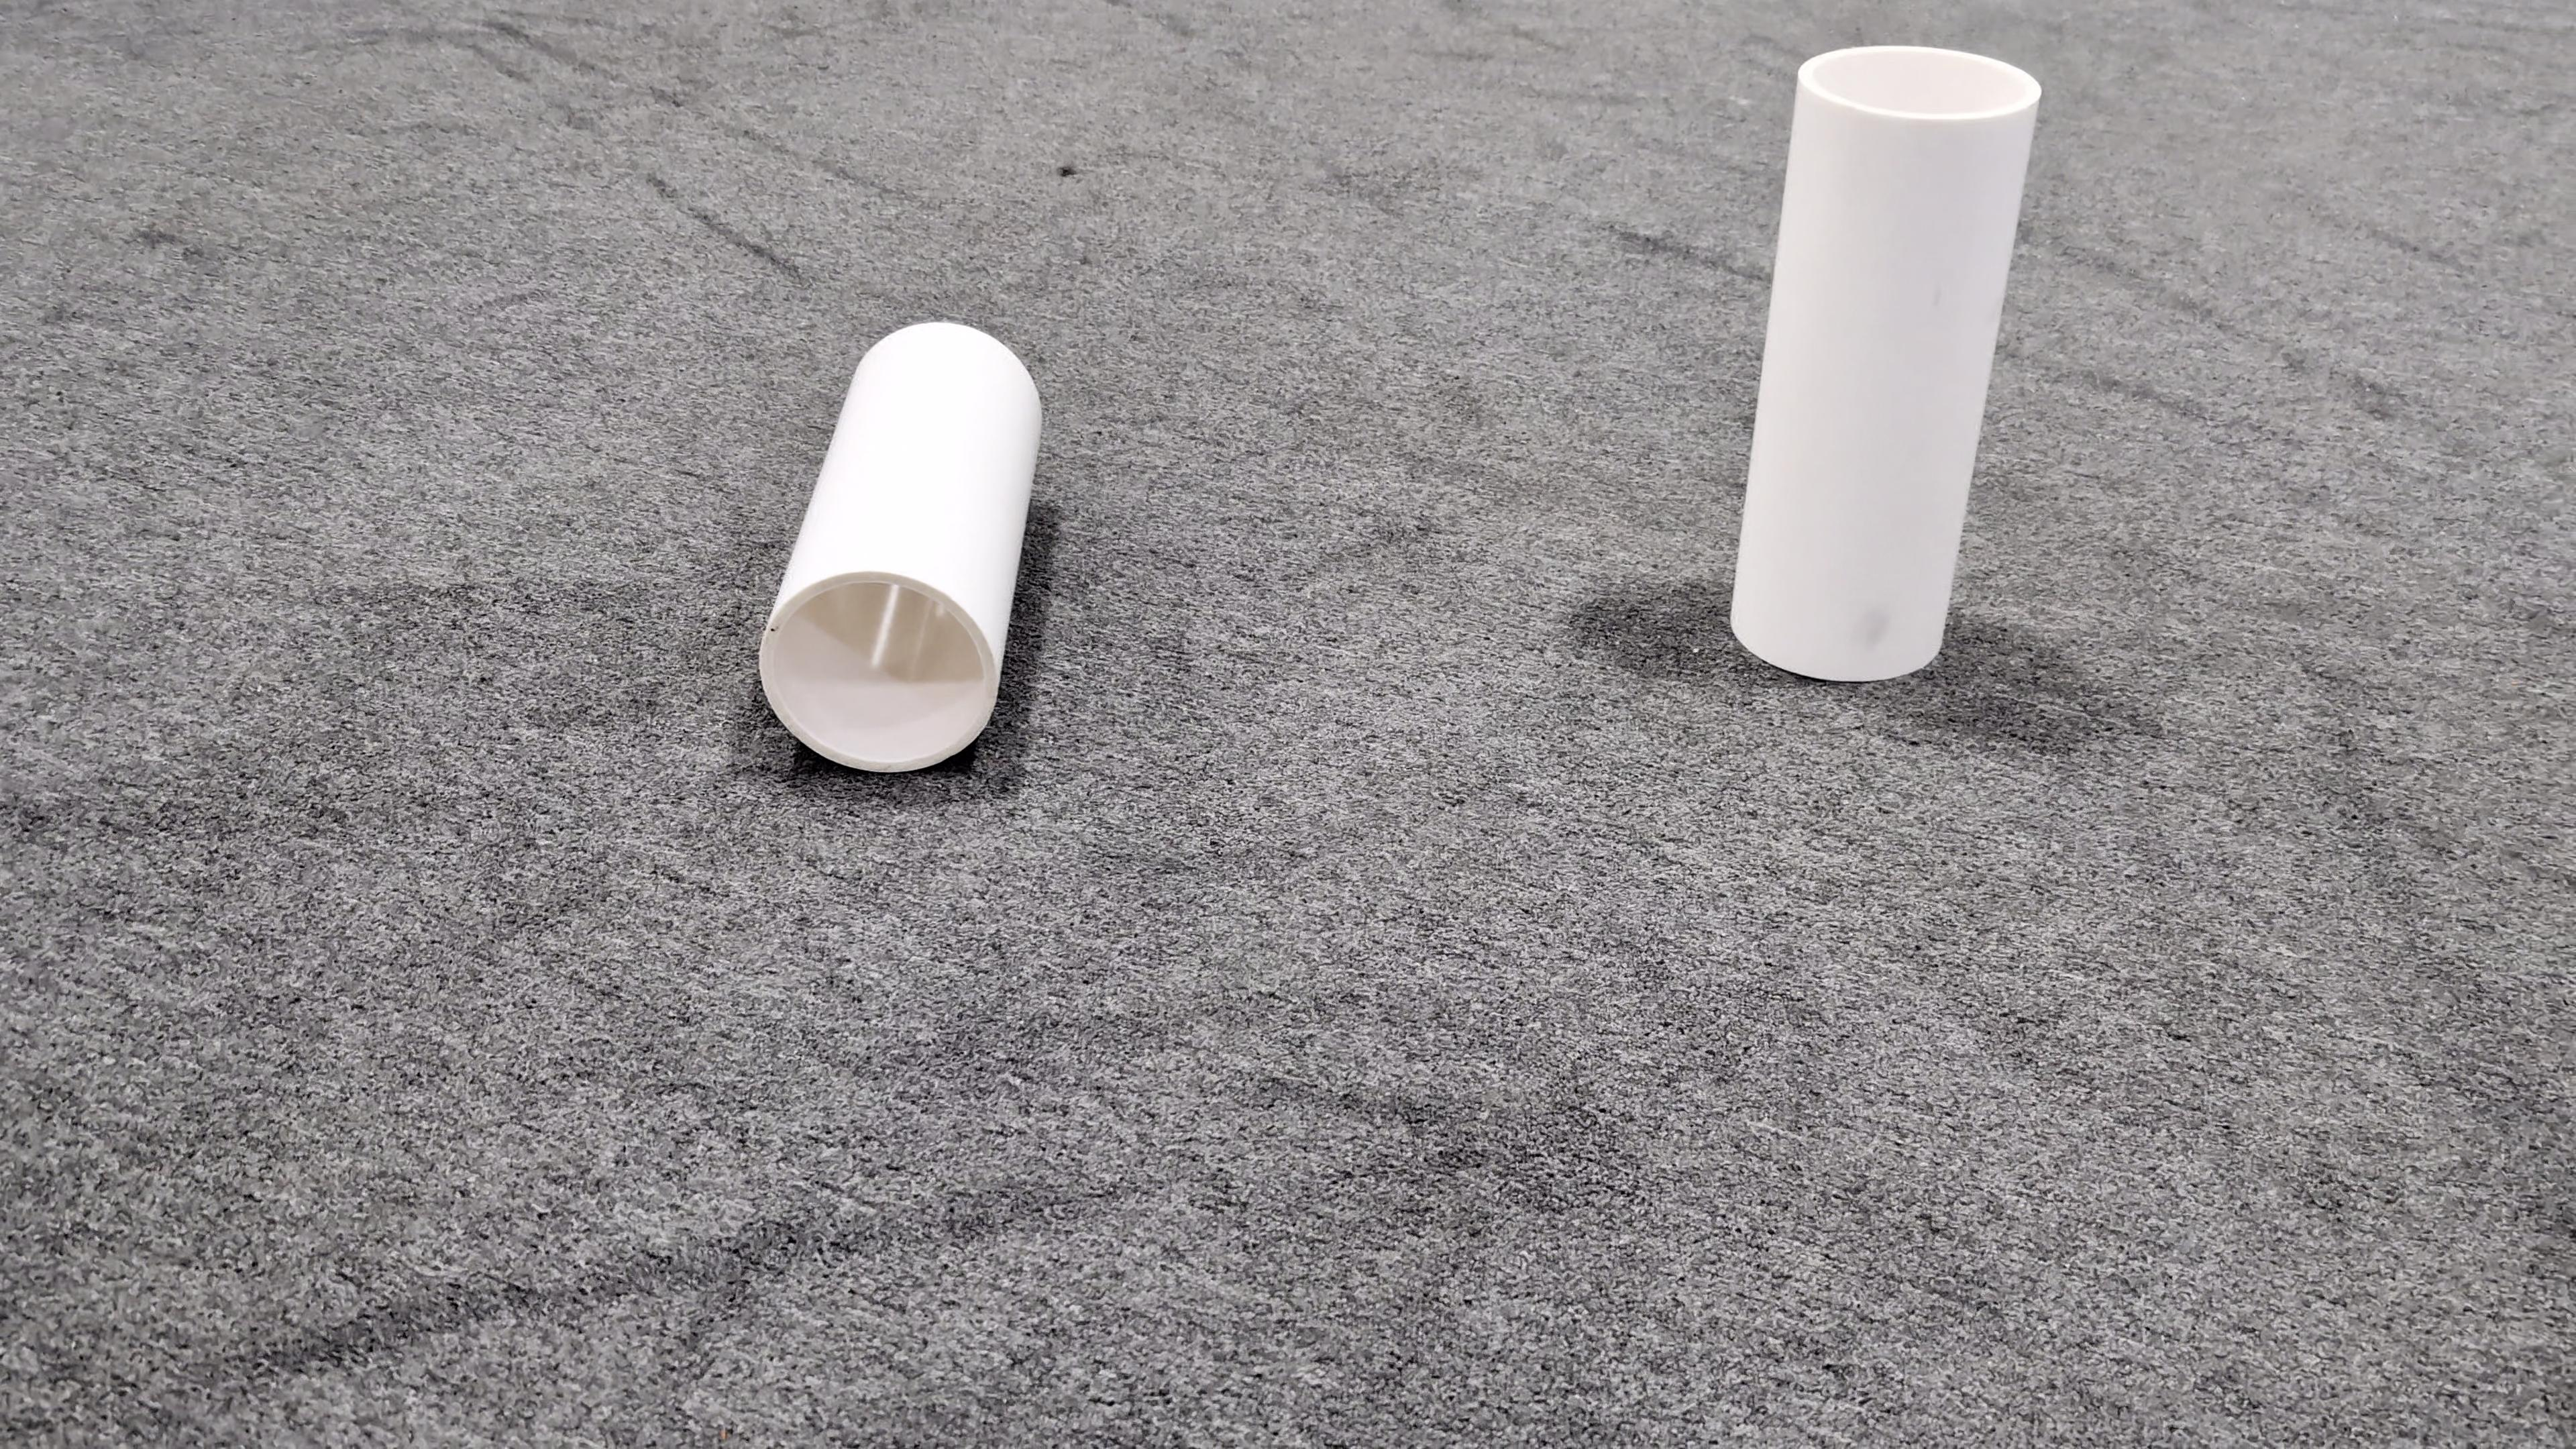coral: (1727, 39, 2043, 679), (755, 318, 1044, 771)
